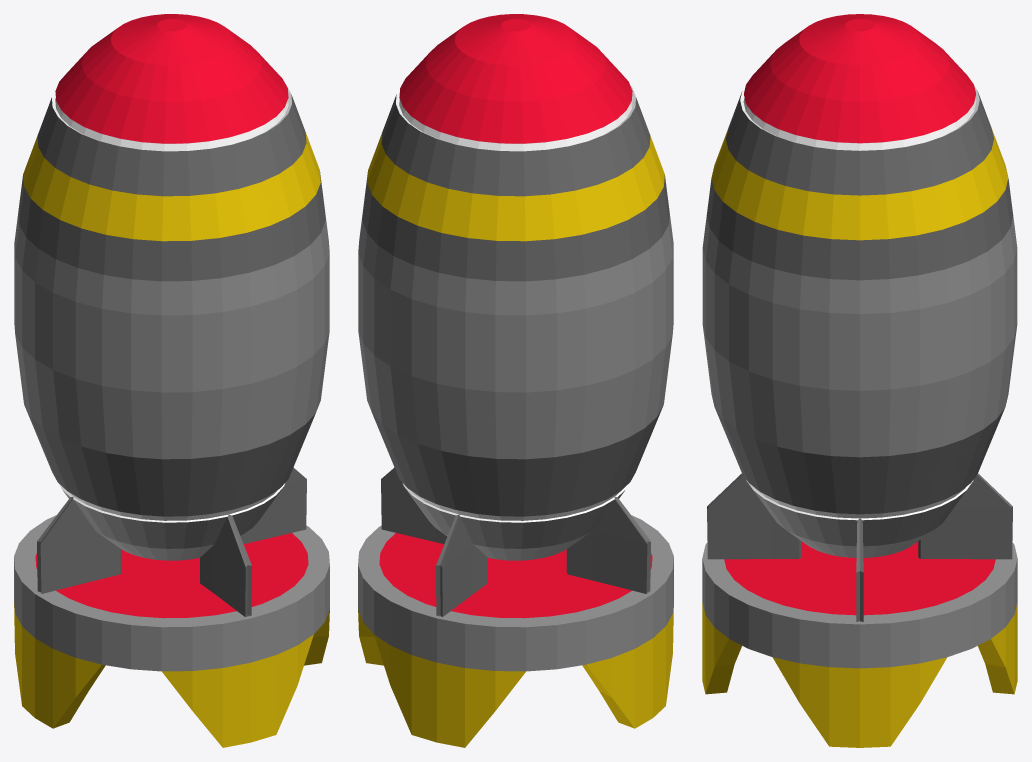
The model's file is Bomb.fbx.
The picture shows the model from 3 angles, left to right: view 1: azimuth 30°, elevation 25°; view 2: azimuth 150°, elevation 25°; view 3: azimuth 270°, elevation 25°; orthographic projection.
Parts seen in each view (by area): view 1: BombTex; view 2: BombTex; view 3: BombTex.
Part boxes in pixels (x1=…): BombTex: x1=14, y1=14, x2=329, y2=747; BombTex: x1=358, y1=14, x2=673, y2=747; BombTex: x1=702, y1=14, x2=1017, y2=747.
Bounding box in the file's own units: 79.16 × 79.16 × 182.
Materials: 1 (1 with a texture image).
